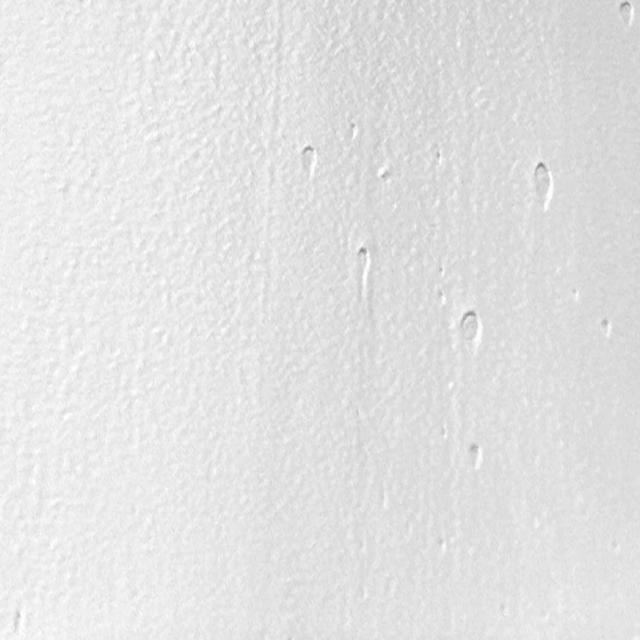pin holes: (526, 160, 561, 217), (456, 309, 486, 350), (296, 146, 320, 181), (354, 246, 375, 280), (615, 0, 637, 31), (465, 442, 487, 471), (7, 607, 28, 637), (596, 314, 615, 340), (432, 536, 450, 558), (430, 147, 447, 170), (435, 284, 450, 306), (377, 167, 393, 183), (346, 121, 359, 140)
